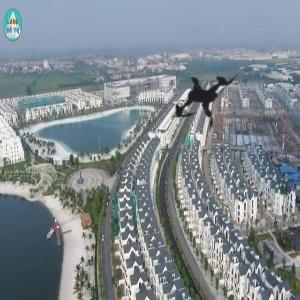drone: (146, 37, 272, 163)
